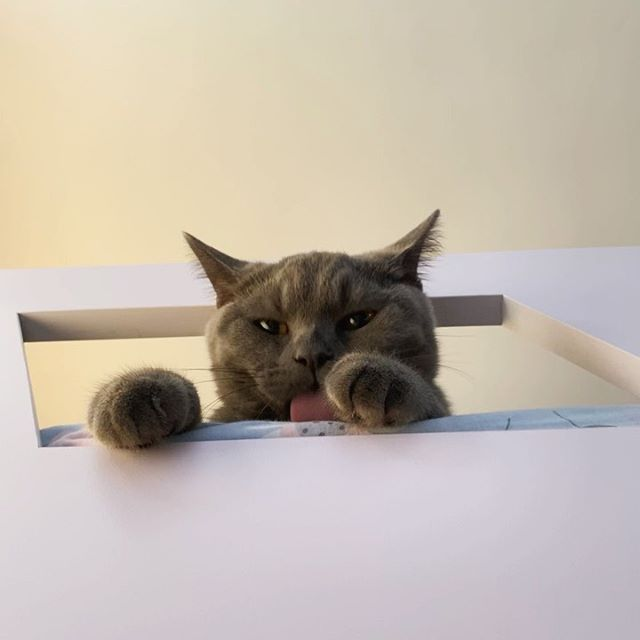cat: (182, 205, 447, 425)
